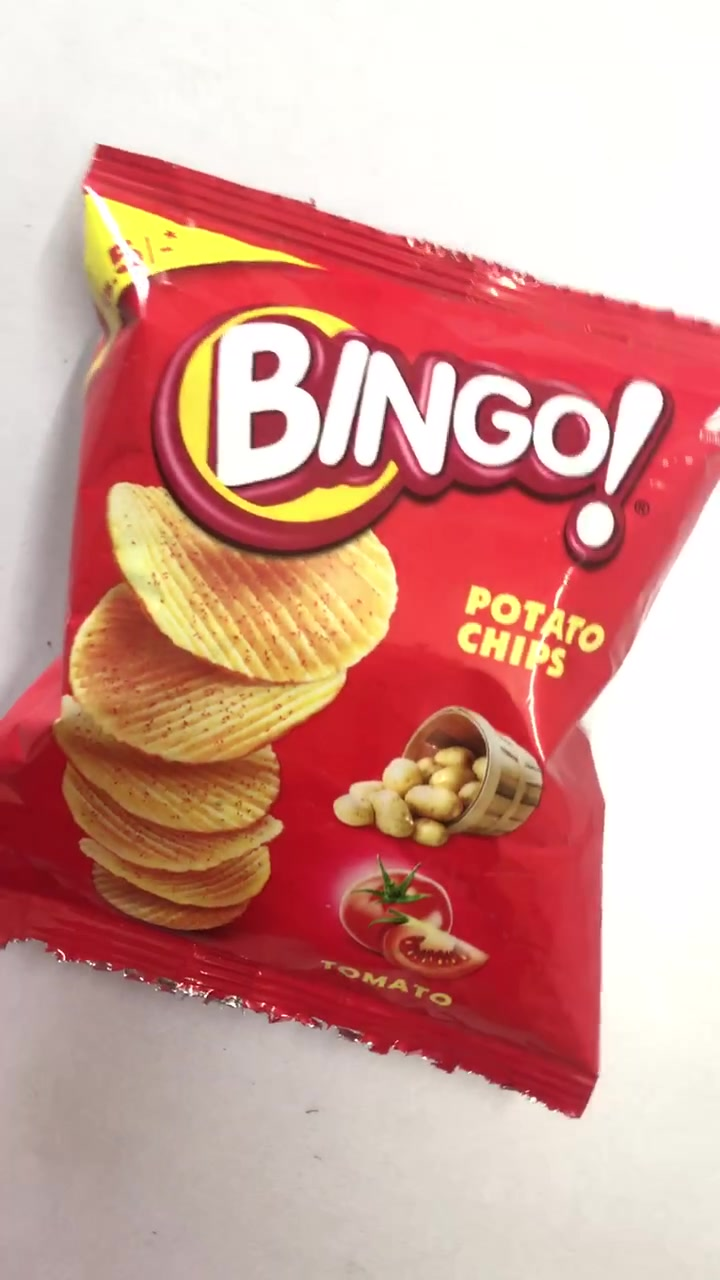Bingo: (8, 150, 720, 1107)
